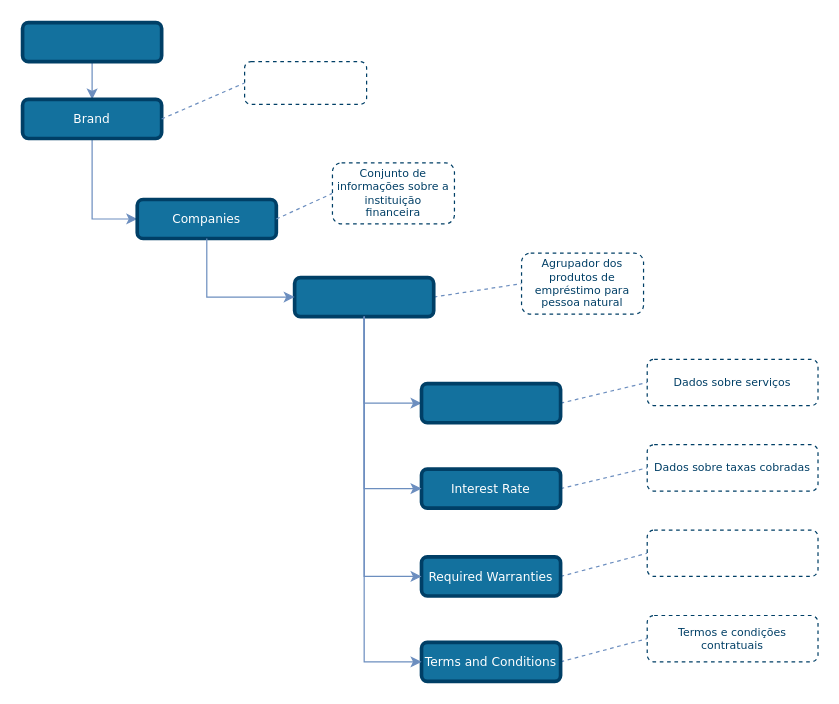
Some shapes in this 839 by 704 pixel diagram are drawn without their labels. The centre of each missing label's shape, as x and y in pixels:
"Dados Marca selecionada pelas Organizações" goes at point (305, 82).
"Dados sobre garantias necessárias para concessão de empréstimo" goes at point (732, 552).
"Fees" goes at point (490, 402).
"Open Banking" goes at point (91, 41).
"Personal Loans" goes at point (363, 296).
